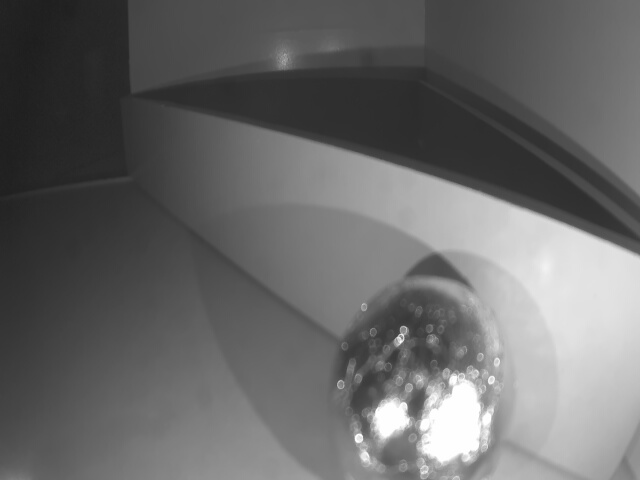Live: (331, 270, 506, 480)
Red: (118, 97, 640, 480)
